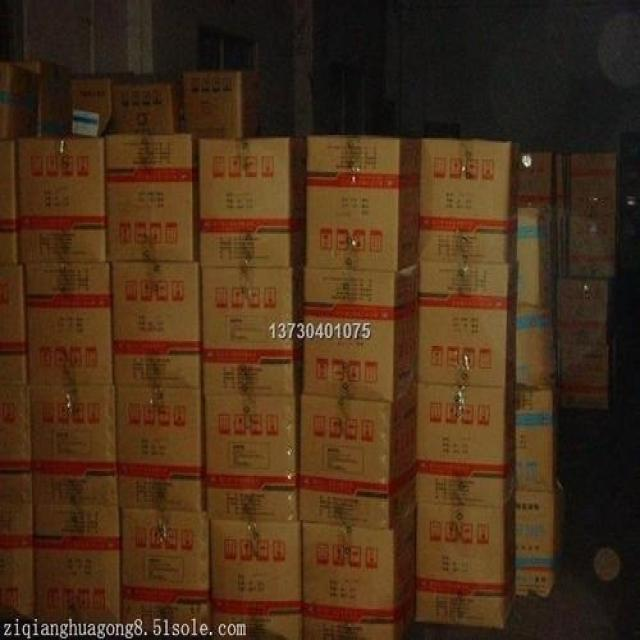box: (300, 385, 419, 528), (302, 262, 421, 404), (298, 505, 417, 640), (306, 136, 422, 273), (198, 136, 307, 268), (198, 266, 306, 396), (413, 494, 516, 629), (419, 377, 516, 508), (419, 258, 516, 388), (14, 132, 108, 266), (104, 130, 198, 262), (31, 505, 122, 640), (204, 395, 301, 520), (120, 505, 209, 640), (420, 140, 518, 262), (109, 262, 201, 388), (206, 518, 300, 640), (29, 385, 122, 507), (115, 387, 206, 510), (23, 263, 113, 385), (183, 70, 268, 140), (515, 487, 562, 598), (516, 380, 561, 491), (0, 502, 32, 640), (70, 70, 134, 138), (13, 62, 72, 135), (111, 76, 183, 135), (0, 382, 31, 505), (516, 208, 553, 305), (516, 304, 557, 387), (559, 343, 609, 409), (0, 265, 27, 385), (558, 276, 605, 344), (0, 65, 38, 140), (571, 156, 617, 216), (571, 216, 617, 276), (517, 153, 557, 208), (0, 138, 17, 266)
